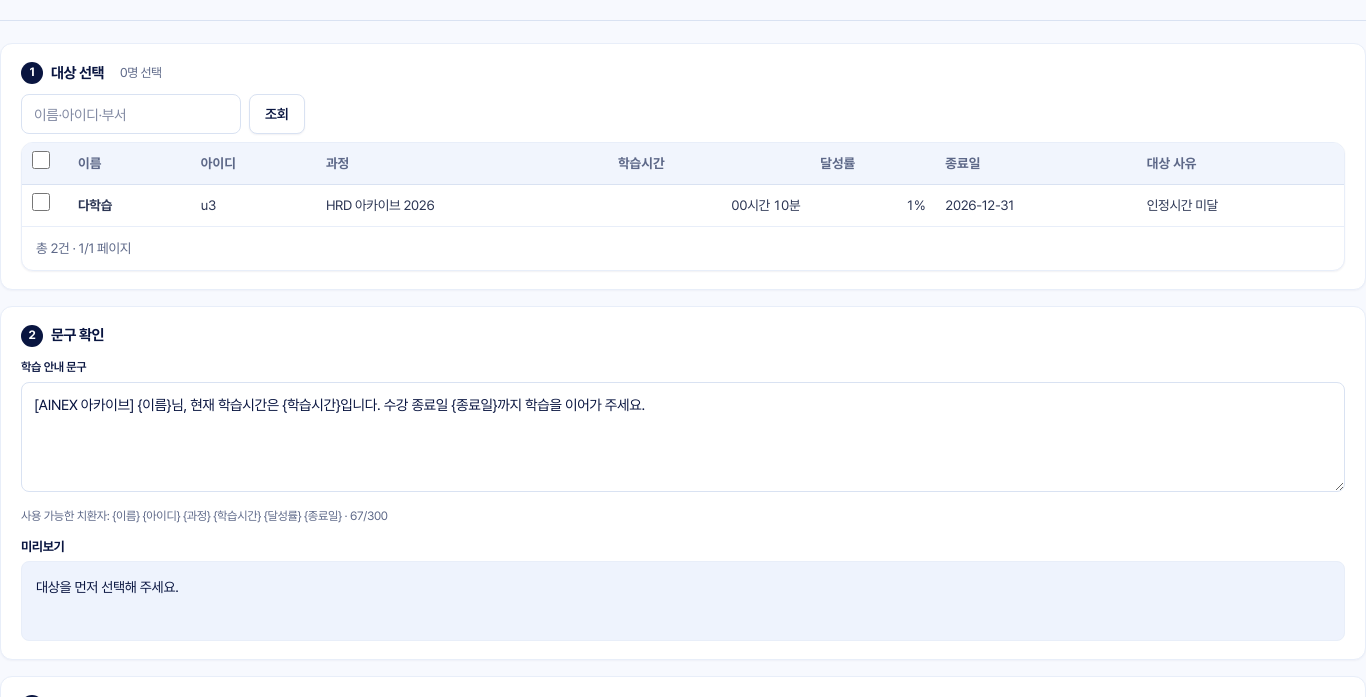
Test: 교육담당자 pages › 확인·독려: only eligible rows, server re-check result shows SEND_NOT_CONFIGURED per target
Click the 2nd checkbox: (41, 202) x1=32 y1=193 x2=50 y2=211
(page scrolled)
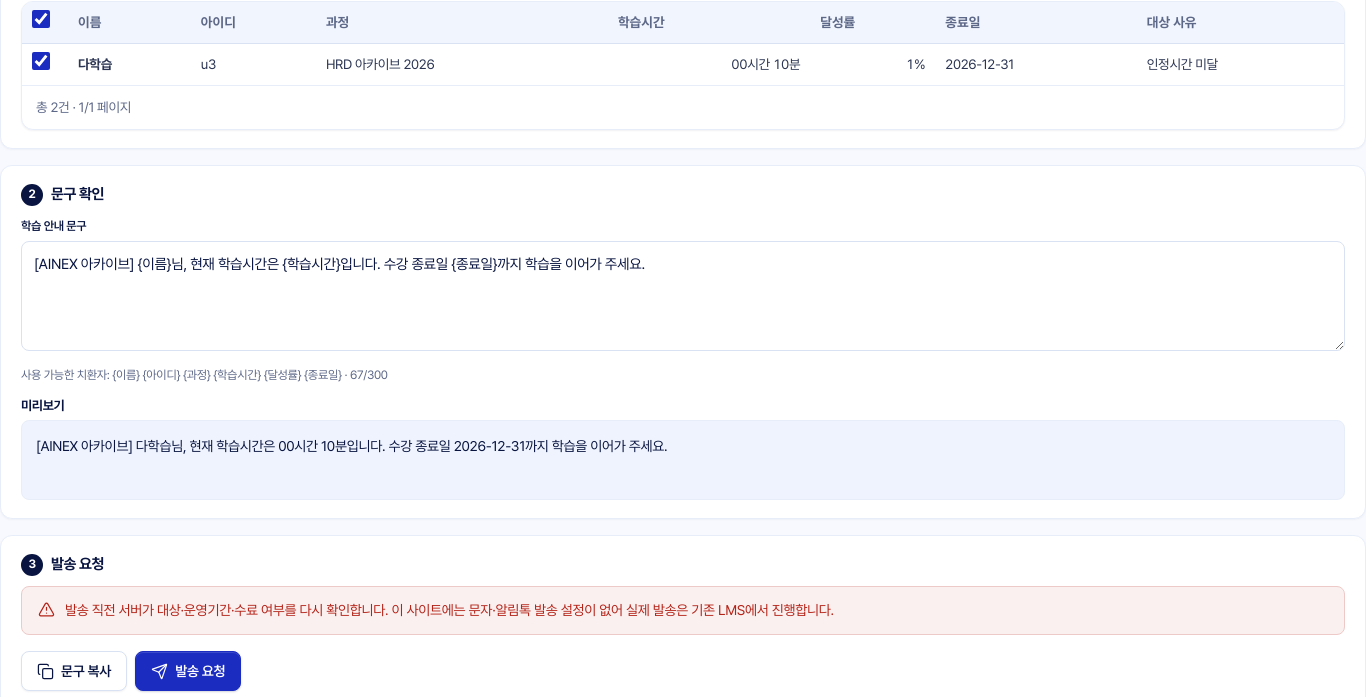
Click the button "발송 요청": (188, 671) x1=135 y1=651 x2=241 y2=691
(page scrolled)
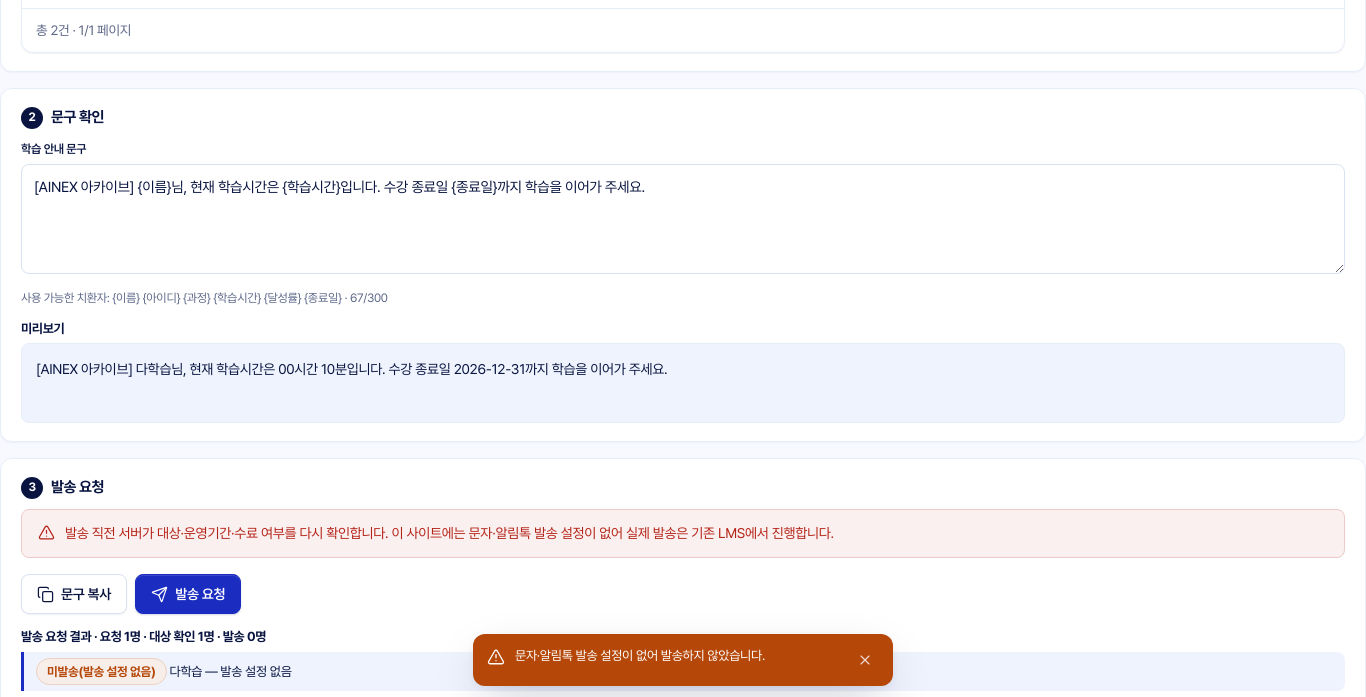
expect the heading "발송 요청 결과 · 요청 1명 · 대상 확인 1명 · 발송 0명" is shown: met, box x1=21 y1=629 x2=266 y2=644
expect the text "미발송(발송 설정 없음)" is shown: met, box x1=36 y1=658 x2=167 y2=685
